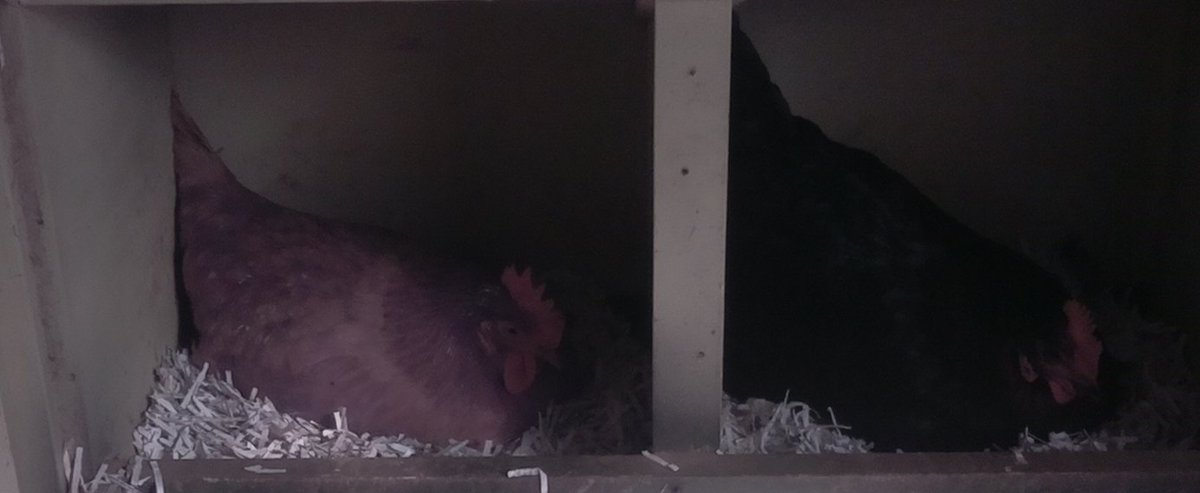hen: (162, 97, 582, 454), (730, 87, 1132, 448)
